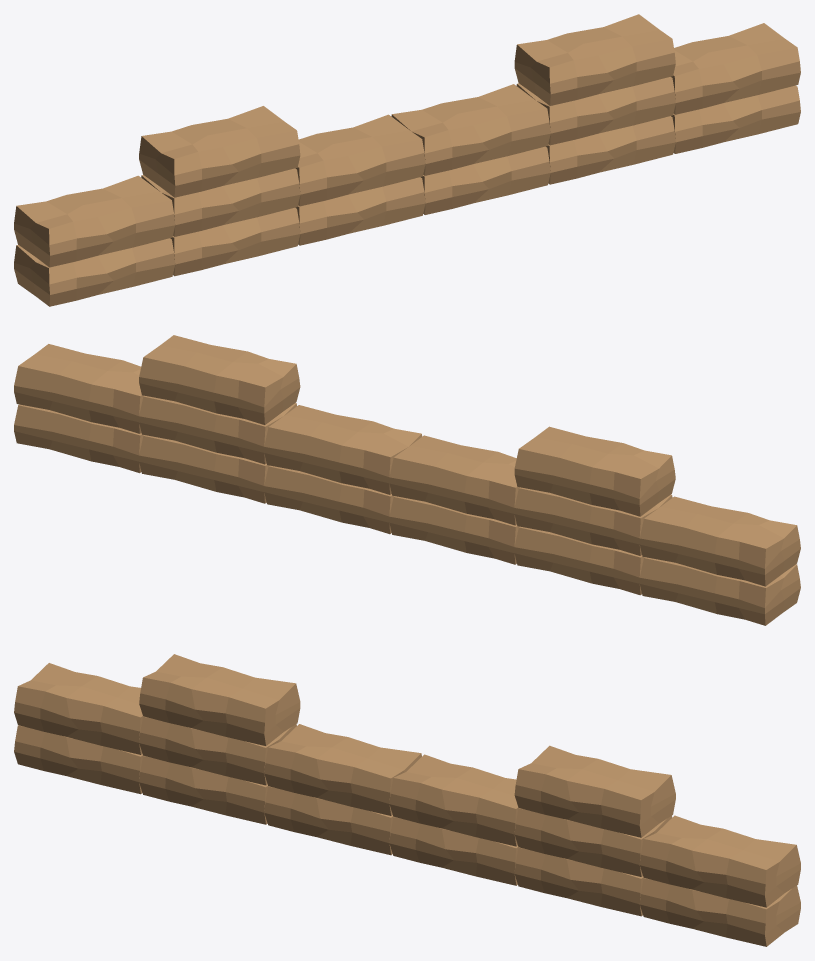
The model's file is SandbagWallV2.glb.
The picture shows the model from 3 angles, top to bottom: view 1: azimuth 30°, elevation 25°; view 2: azimuth 150°, elevation 25°; view 3: azimuth 330°, elevation 25°; orthographic projection.
Visible parts, largest first — view 1: SandbagWallV2; view 2: SandbagWallV2; view 3: SandbagWallV2.
Part boxes in pixels (x1,y1,x2,y2): SandbagWallV2: [14, 14, 800, 306]; SandbagWallV2: [14, 335, 800, 625]; SandbagWallV2: [14, 654, 800, 946].
Bounding box in the file's own units: 6 × 0.8999 × 0.5058.
1 material, 1 textured.
